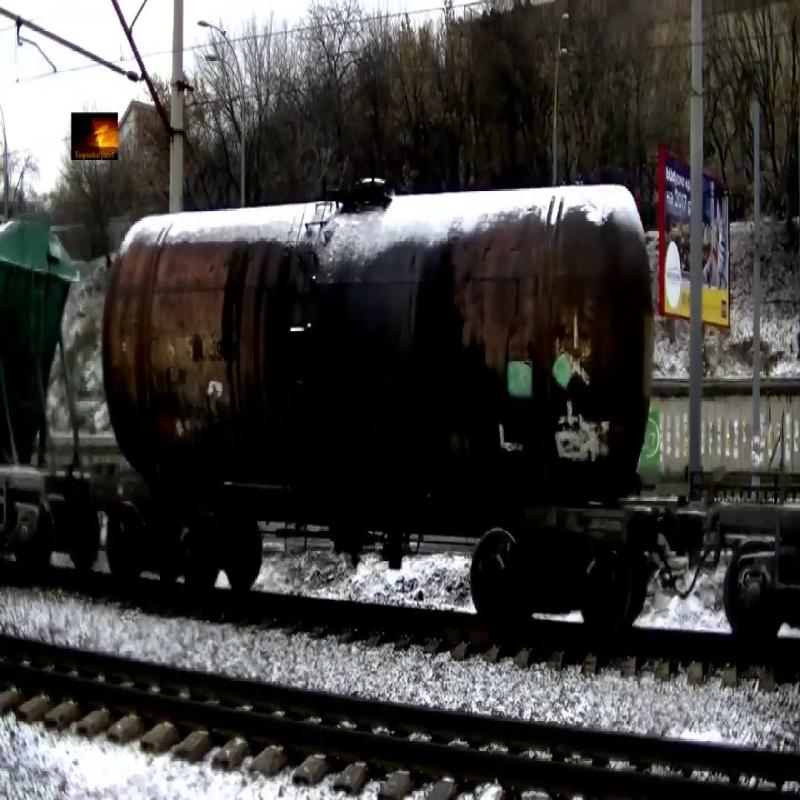train: (101, 166, 658, 525), (1, 204, 85, 535)
